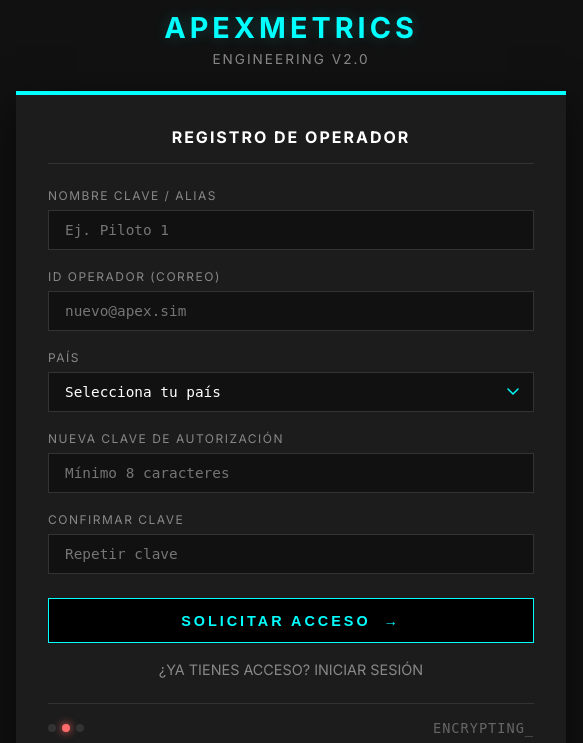
Register — integración con API › muestra mensaje de error cuando la API responde con error
This screenshot has width=583, height=743.
Type "PilotoTest" into the field with placeholder "Ej. Piloto 1" at (291, 230), box [48,210,534,250]
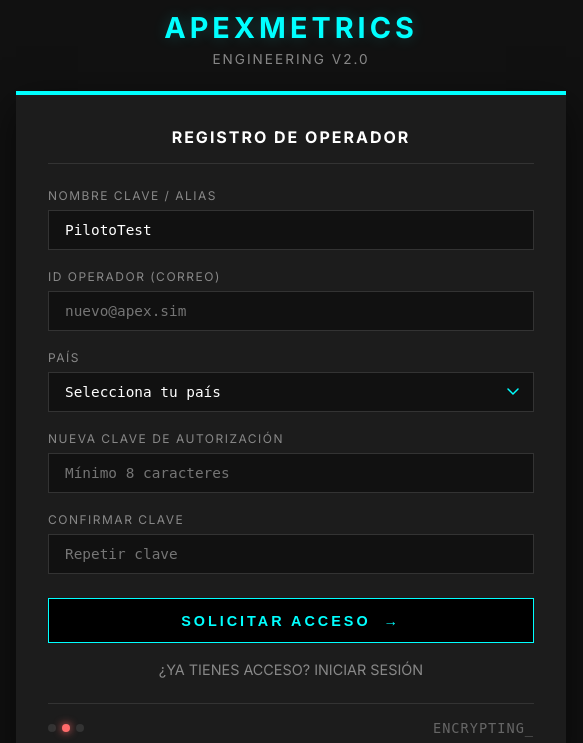
Type "test@apex.sim" into the field with placeholder "nuevo@apex.sim" at (291, 311), box [48,291,534,331]
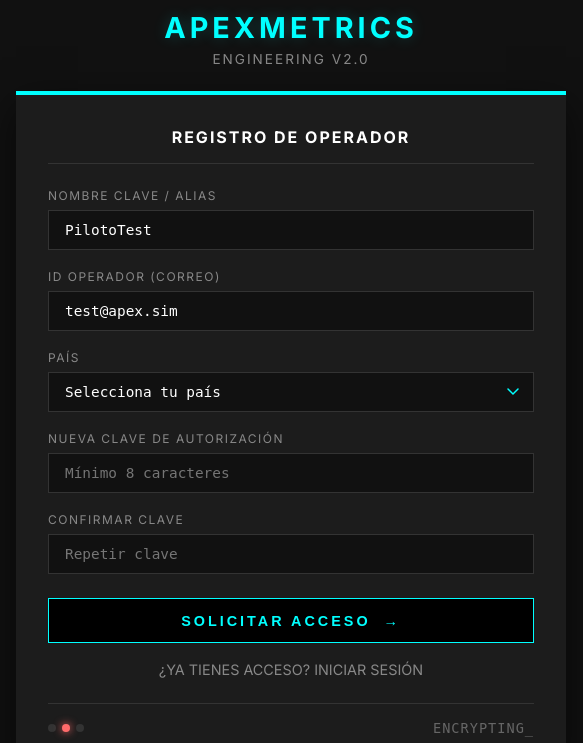
Select "Chile" in the dropdown at (291, 392), box [48,372,534,412]
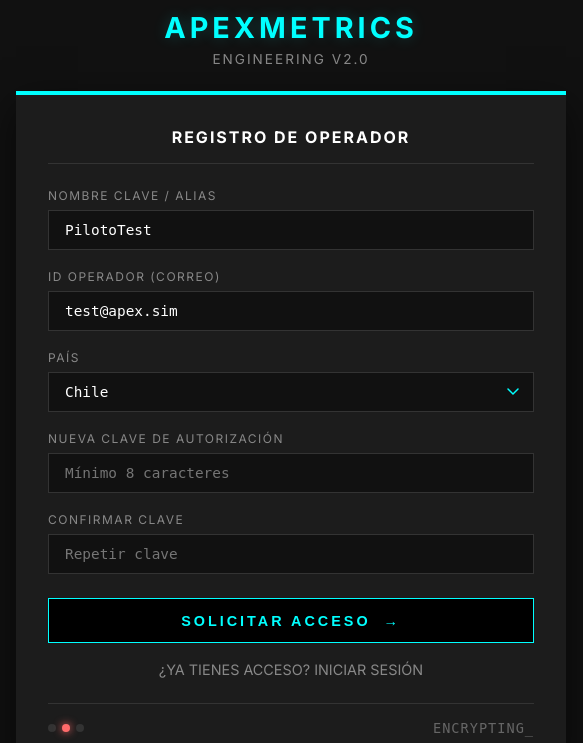
Type "clave_super_segura_32chars" into the password field with placeholder "Mínimo 8 caracteres" at (291, 473), box [48,453,534,493]
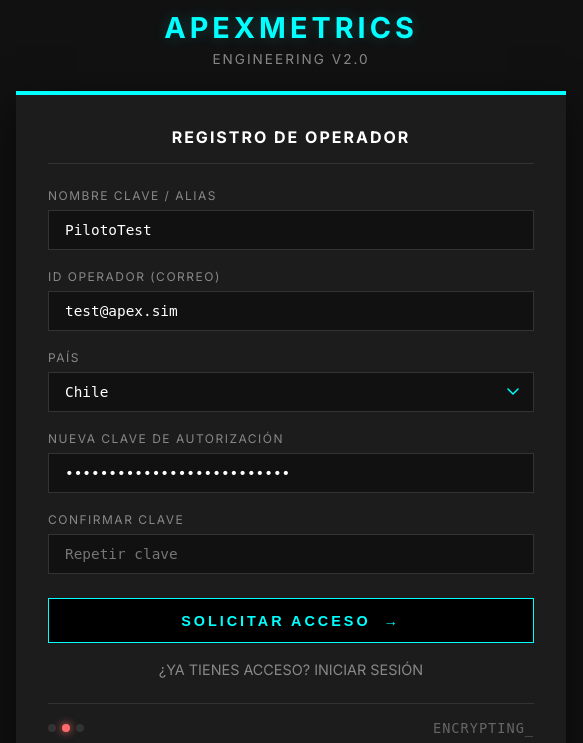
Type "clave_super_segura_32chars" into the password field with placeholder "Repetir clave" at (291, 554), box [48,534,534,574]
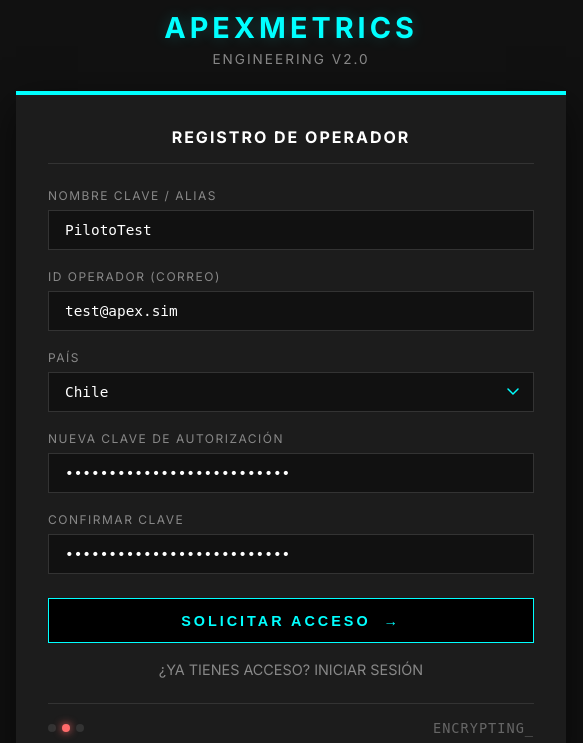
Click the button "SOLICITAR ACCESO →" at (291, 621), box [48,598,534,643]
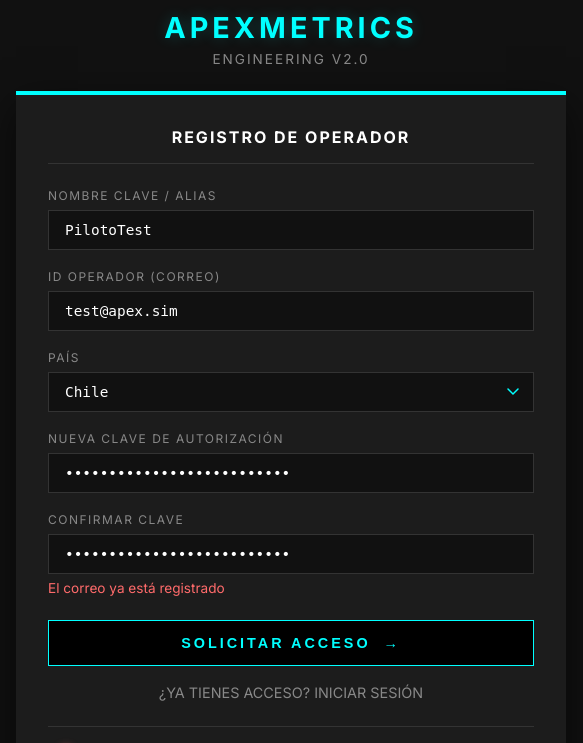
Result: the text "El correo ya está registrado" is shown at [48,580,225,596]
